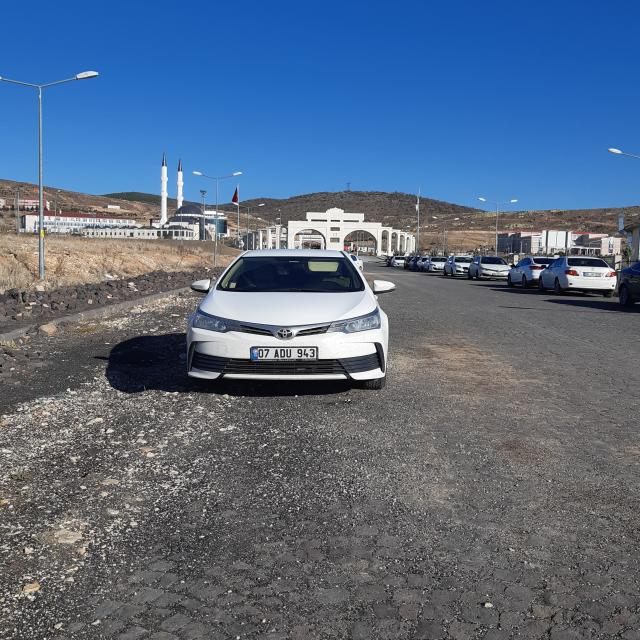license_plate: (250, 347, 318, 359)
